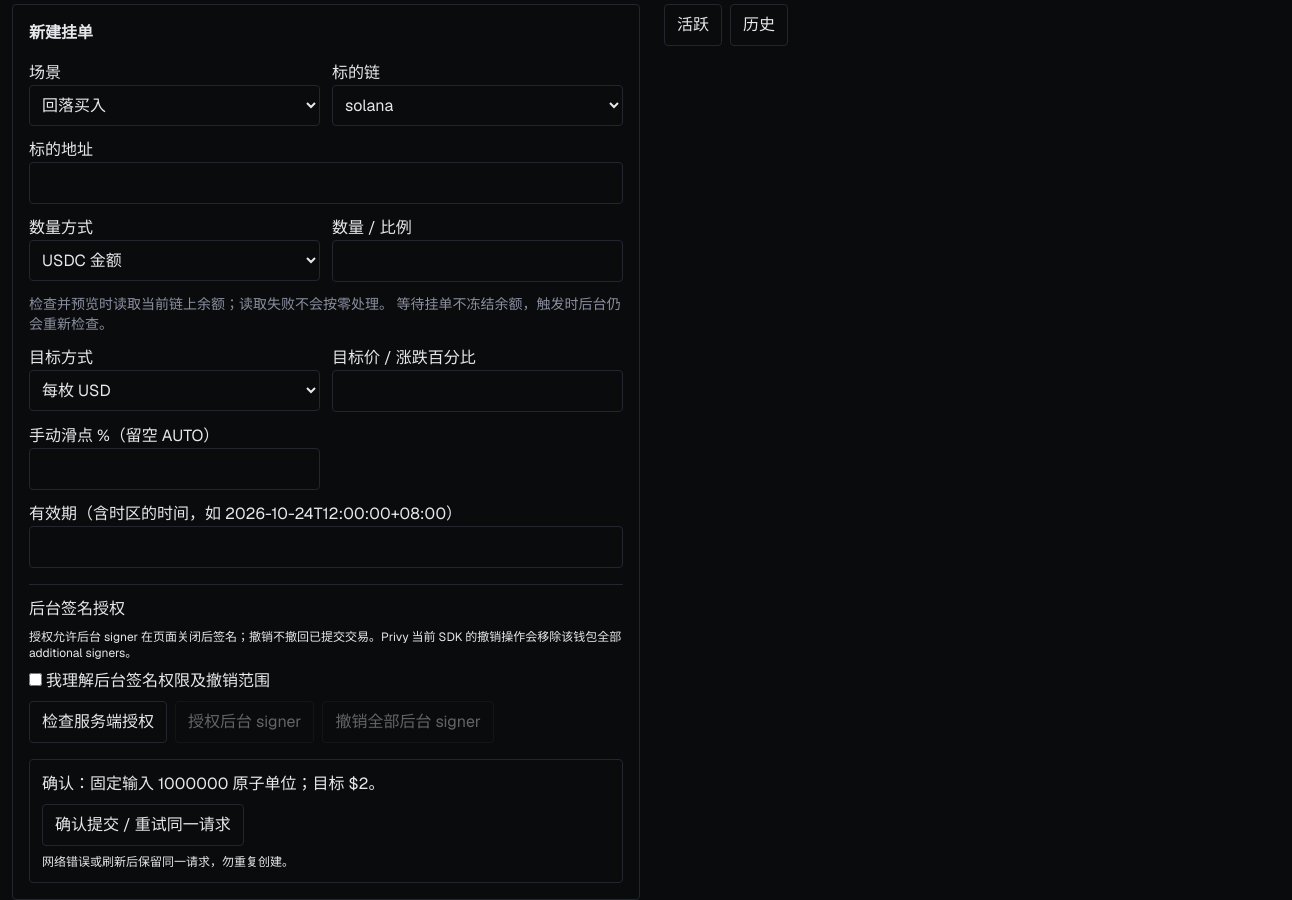
Test: returns to editing after a definitive capacity rejection instead of retaining an uncertain create
(page scrolled)
Click the button "确认提交 / 重试同一请求" at (143, 825), box [42,804,244,846]
(page scrolled)
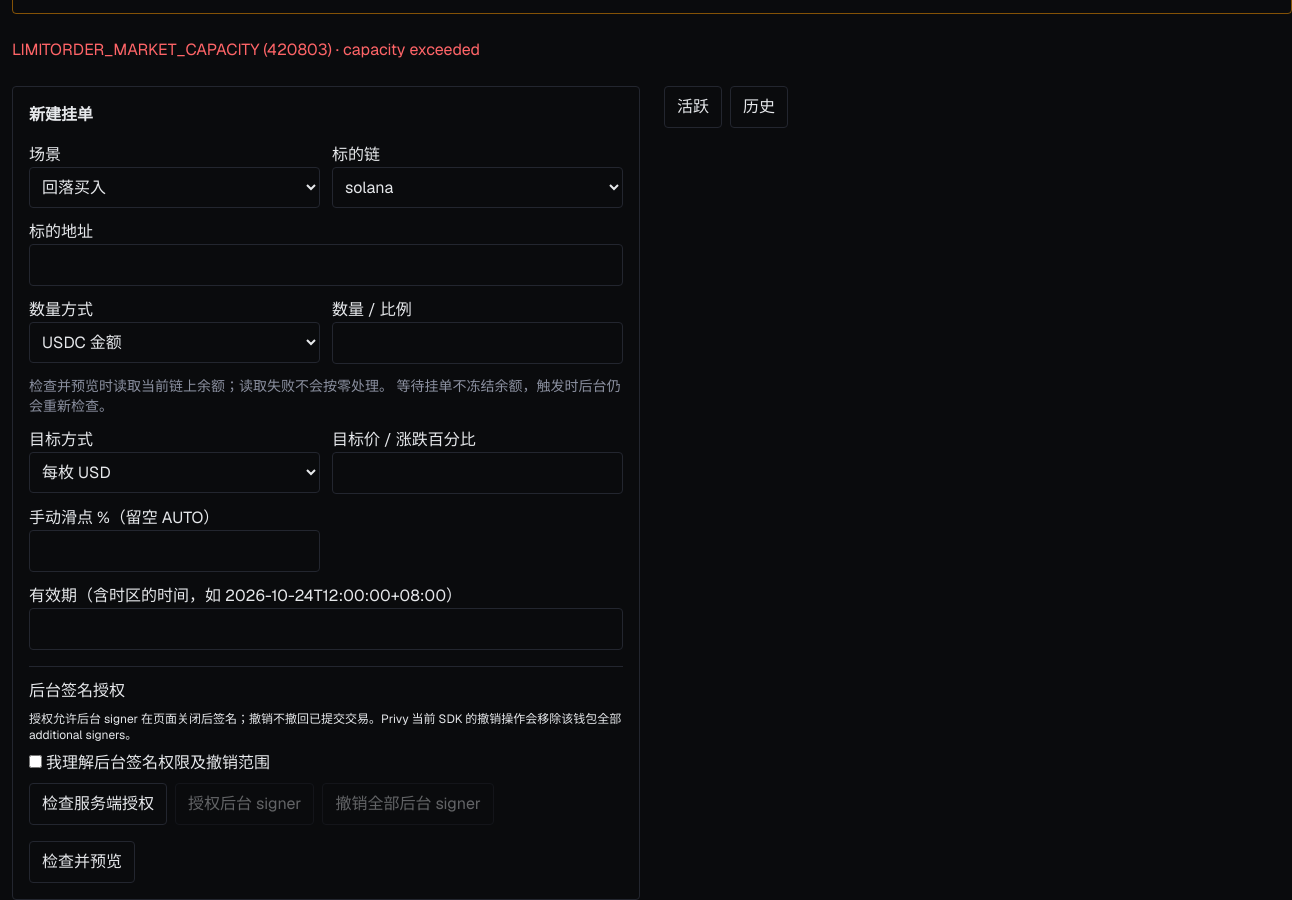
Check: the text "LIMITORDER_MARKET_CAPACITY (420803) · capacity exceeded" is shown, box [12,39,480,60]
Check: the button "检查并预览" is shown, box [29,841,135,883]
